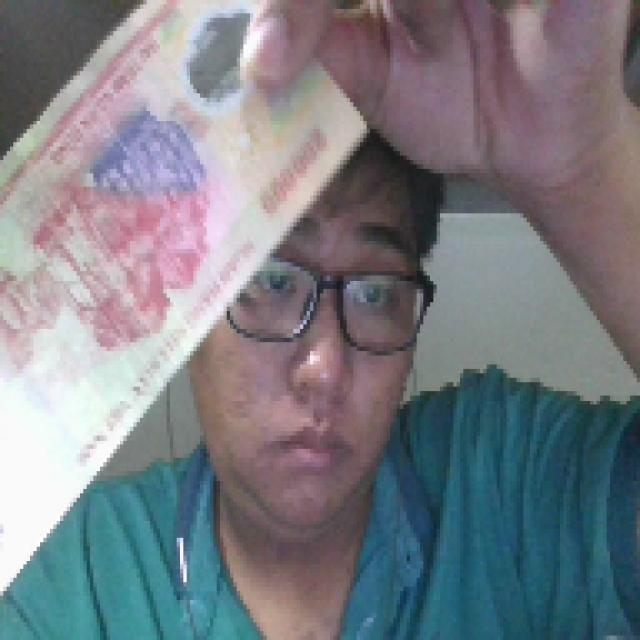200 000 VND: (1, 0, 375, 636)
